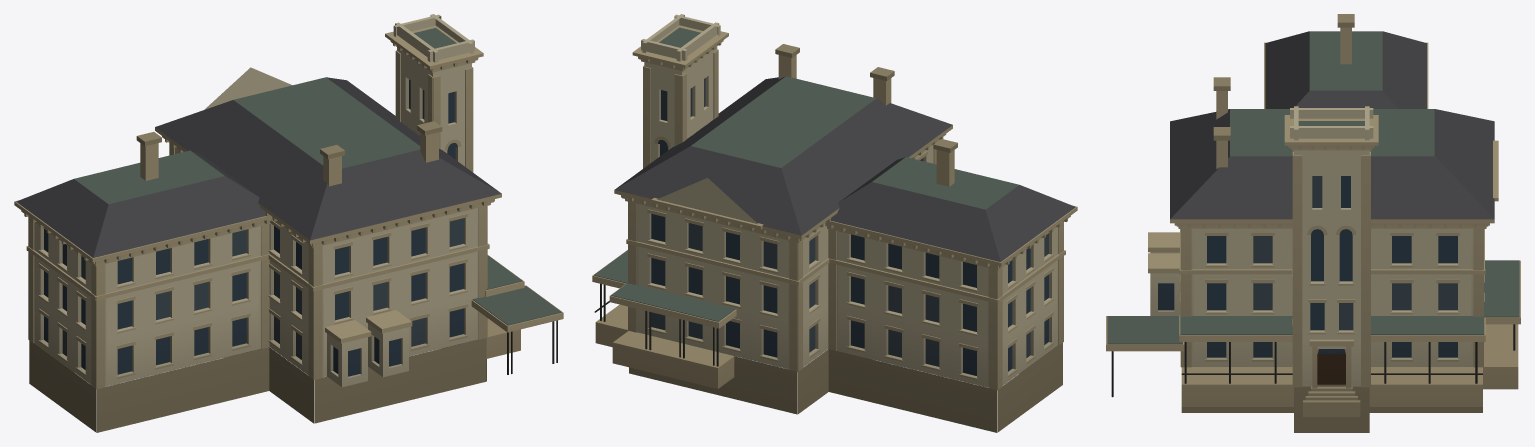
The model's file is quarters1.glb.
The picture shows the model from 3 angles, left to right: view 1: azimuth 30°, elevation 25°; view 2: azimuth 150°, elevation 25°; view 3: azimuth 270°, elevation 25°; orthographic projection. The views are drawn at different scales.
Parts seen in each view (by area): view 1: quarters1_lod0; view 2: quarters1_lod0; view 3: quarters1_lod0.
Part boxes in pixels (x1=…): quarters1_lod0: x1=14, y1=14, x2=563, y2=432; quarters1_lod0: x1=592, y1=14, x2=1077, y2=432; quarters1_lod0: x1=1106, y1=14, x2=1520, y2=432.
Size of what is drawn, in the model's own units: 37.9 by 25.8 by 31.8.
